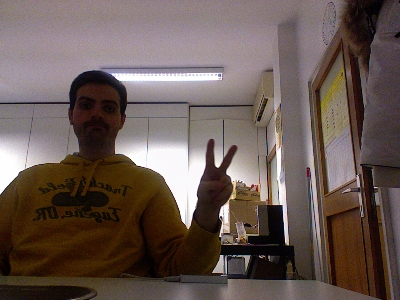剪刀: (195, 137, 238, 207)
